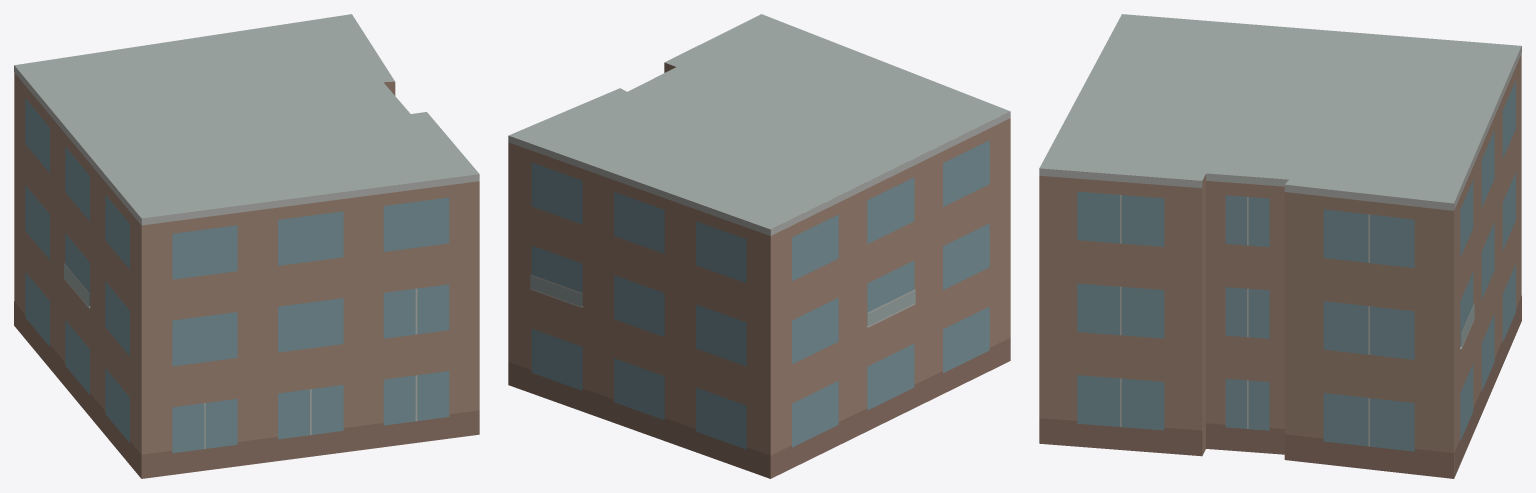
Rendered from survey-upis-32541229.glb.
3 views of the same model, side by side, from view 1: azimuth 30°, elevation 25°; view 2: azimuth 150°, elevation 25°; view 3: azimuth 270°, elevation 25° (orthographic). The views are drawn at different scales.
Parts seen in each view (by area): view 1: survey-upis-32541229.tmp; view 2: survey-upis-32541229.tmp; view 3: survey-upis-32541229.tmp.
Boxes of the visible parts, x1,y1,x2,y2 form: survey-upis-32541229.tmp: (14,14,479,478); survey-upis-32541229.tmp: (508,14,1010,478); survey-upis-32541229.tmp: (1039,14,1521,478).
Bounding box in the file's own units: 13.52 × 9.15 × 14.54.
